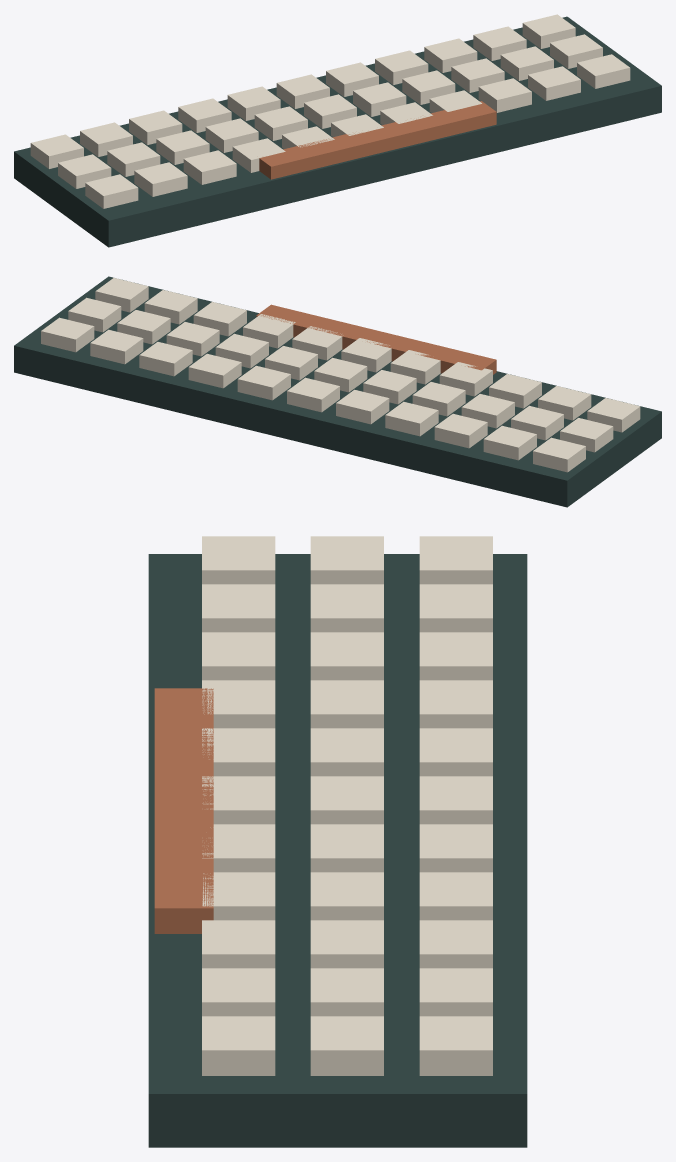
The picture shows the model from 3 angles, top to bottom: view 1: azimuth 30°, elevation 25°; view 2: azimuth 150°, elevation 25°; view 3: azimuth 270°, elevation 25°; orthographic projection. The views are drawn at different scales.
Visible parts, largest first — view 1: body0, spacebar, key0-2-2, key0-2-10, key0-2-0, key0-2-1, key0-2-8, key0-2-9, key0-0-4, key0-0-9, key0-0-10, key0-1-4 (+23 smaller); view 2: body0, spacebar, key0-0-10, key0-0-2, key0-0-3, key0-0-4, key0-0-7, key0-0-8, key0-0-9, key0-0-1, key0-0-6, key0-0-0 (+23 smaller); view 3: body0, spacebar, key0-0-10, key0-1-10, key0-2-10, key0-0-0, key0-0-1, key0-0-2, key0-0-3, key0-0-4, key0-0-5, key0-0-6 (+23 smaller).
Part boxes in pixels (bbox=[...]): body0: bbox=[14, 16, 661, 247]; spacebar: bbox=[259, 101, 496, 179]; key0-2-2: bbox=[183, 150, 236, 184]; key0-2-10: bbox=[577, 54, 630, 88]; key0-2-0: bbox=[85, 174, 138, 208]; key0-2-1: bbox=[134, 162, 187, 196]; key0-2-8: bbox=[478, 78, 531, 112]; key0-2-9: bbox=[528, 66, 580, 100]; key0-0-4: bbox=[227, 86, 280, 120]; key0-0-9: bbox=[473, 26, 526, 60]; key0-0-10: bbox=[522, 14, 575, 48]; key0-1-4: bbox=[254, 106, 307, 140]; body0: bbox=[14, 276, 661, 507]; spacebar: bbox=[256, 304, 496, 374]; key0-0-10: bbox=[41, 317, 94, 352]; key0-0-2: bbox=[434, 413, 487, 448]; key0-0-3: bbox=[385, 401, 438, 436]; key0-0-4: bbox=[336, 389, 389, 424]; key0-0-7: bbox=[188, 353, 241, 388]; key0-0-8: bbox=[139, 342, 192, 376]; key0-0-9: bbox=[90, 329, 143, 364]; key0-0-1: bbox=[483, 425, 536, 460]; key0-0-6: bbox=[237, 365, 290, 400]; key0-0-0: bbox=[533, 437, 585, 472]; body0: bbox=[148, 554, 527, 1147]; spacebar: bbox=[154, 688, 213, 933]; key0-0-10: bbox=[419, 1016, 492, 1075]; key0-1-10: bbox=[310, 1016, 383, 1075]; key0-2-10: bbox=[202, 1016, 275, 1075]; key0-0-0: bbox=[419, 536, 492, 584]; key0-0-1: bbox=[419, 584, 492, 632]; key0-0-2: bbox=[419, 632, 492, 680]; key0-0-3: bbox=[419, 680, 492, 728]; key0-0-4: bbox=[419, 728, 492, 776]; key0-0-5: bbox=[419, 776, 492, 824]; key0-0-6: bbox=[419, 824, 492, 872].
Bounding box in the file's own units: 0.54 × 0.037 × 0.16.
